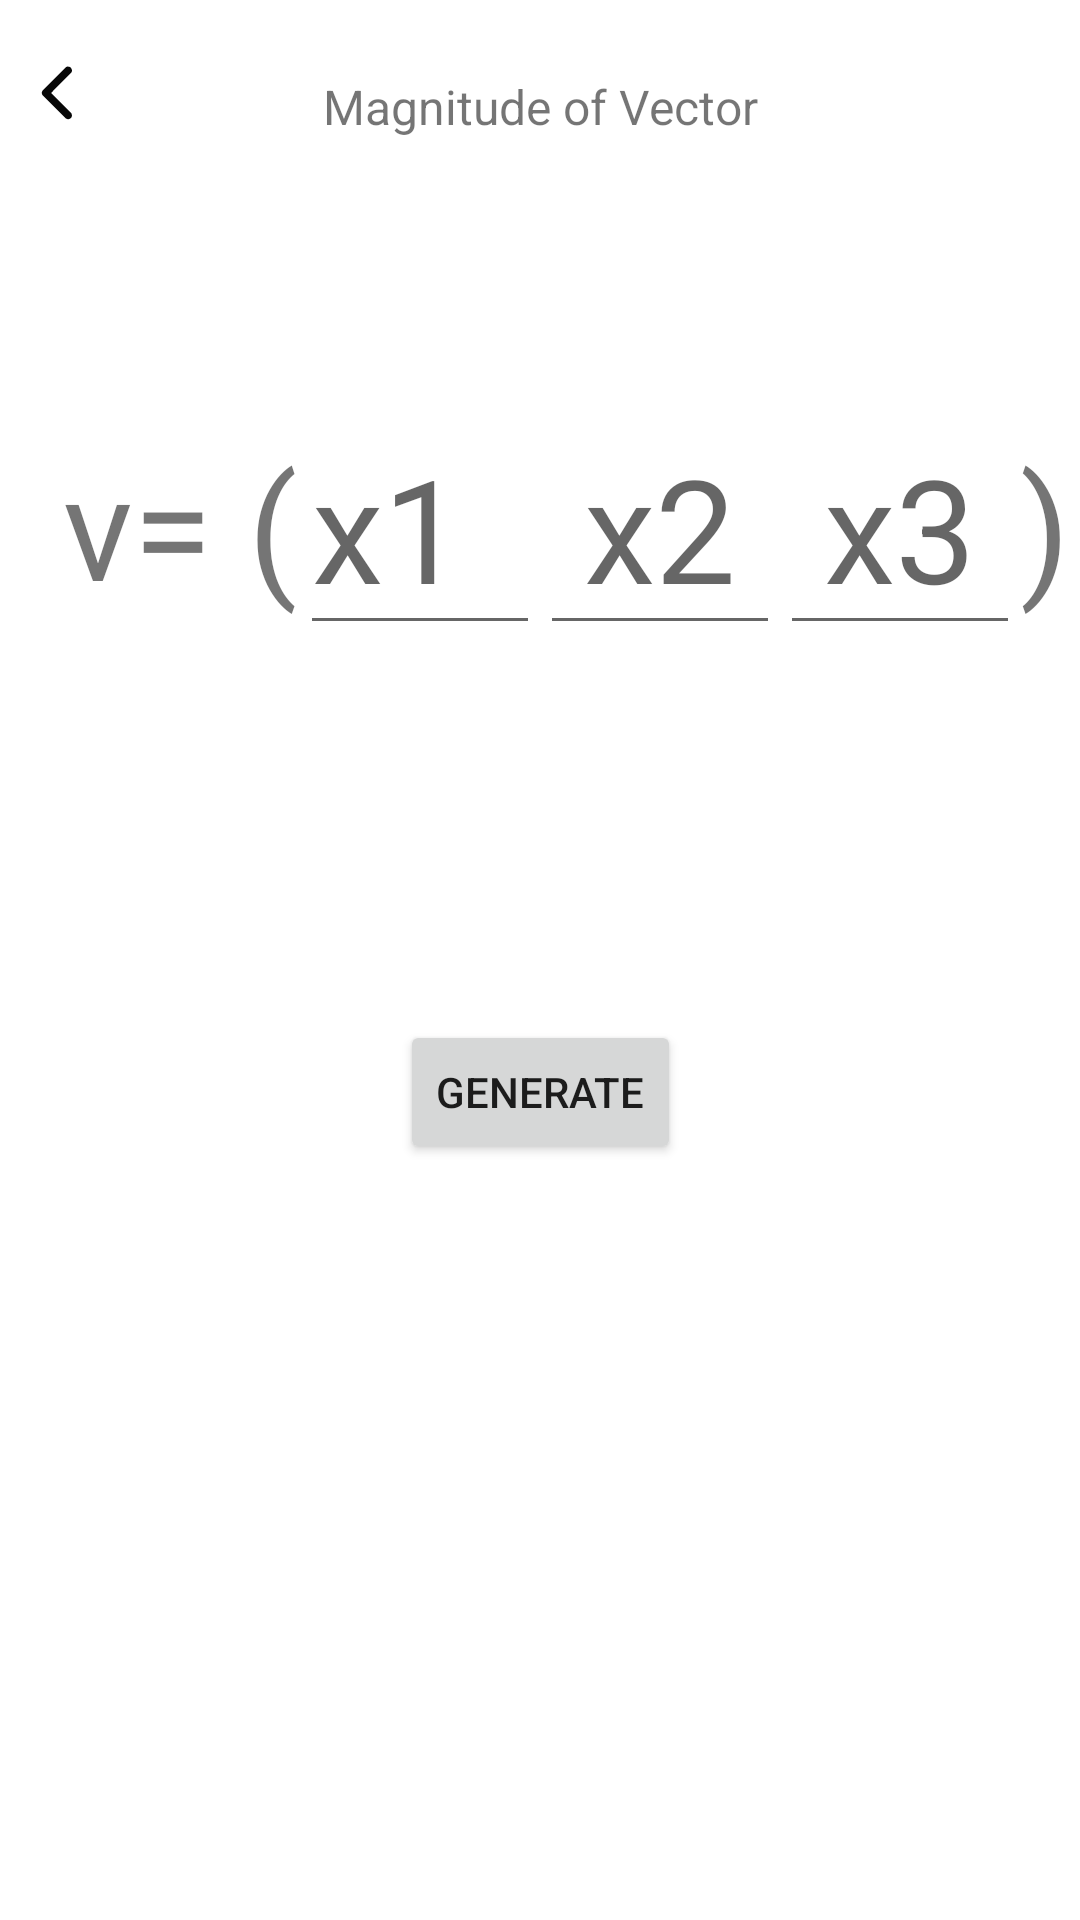

Point at icon controls on the screen. Image size 1080w x 1920h, points as (x,y).
back: (56,93)
